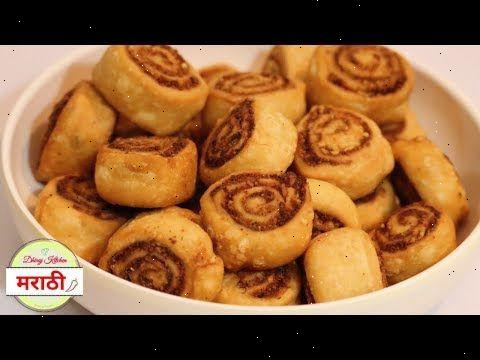bhakarwadi: (35, 45, 475, 256)
